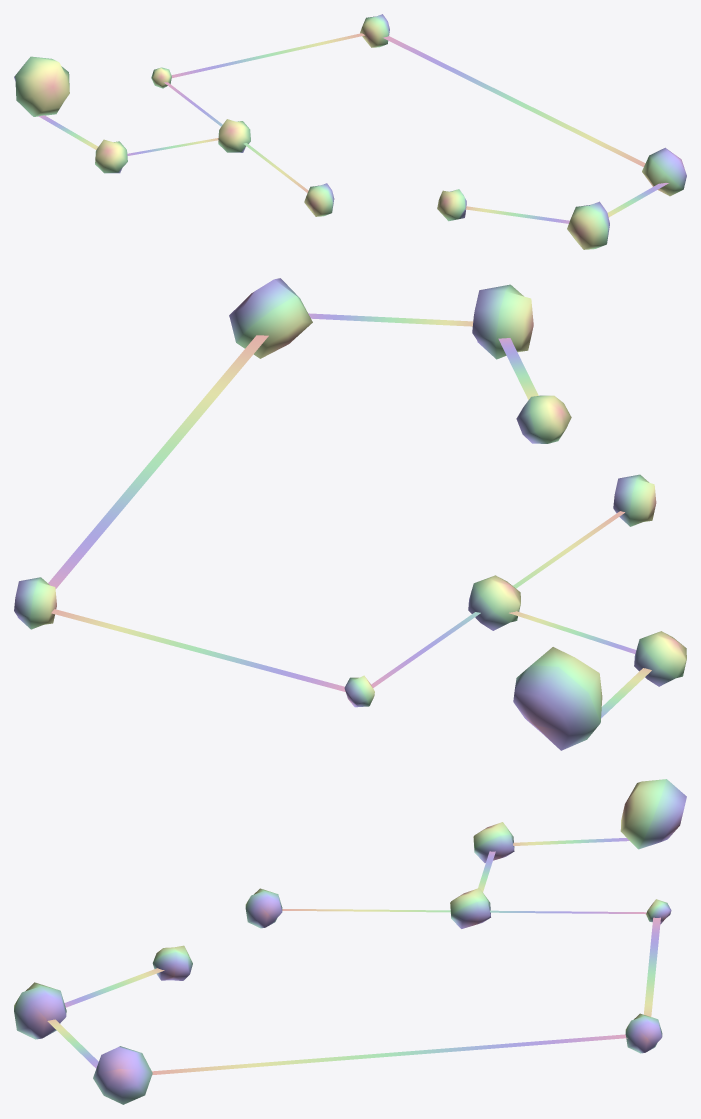
The model's file is ChomChef.fbx.
The picture shows the model from 3 angles, top to bottom: view 1: azimuth 30°, elevation 25°; view 2: azimuth 150°, elevation 25°; view 3: azimuth 270°, elevation 25°; orthographic projection. The views are drawn at different scales.
Visible parts, largest first — view 1: ChomChef; view 2: ChomChef; view 3: ChomChef.
Part boxes in pixels (<box>): ChomChef: <box>14,14,686,249</box>; ChomChef: <box>14,278,686,750</box>; ChomChef: <box>14,779,686,1104</box>.
Bounding box in the file's own units: 3.66 × 3.99 × 0.5617.
